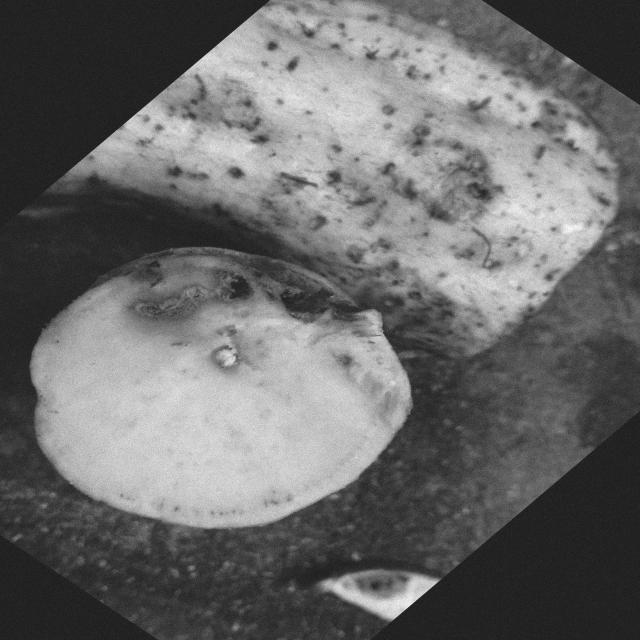Sick Sweet Potato_Tuber Rot: (32, 248, 412, 528)
